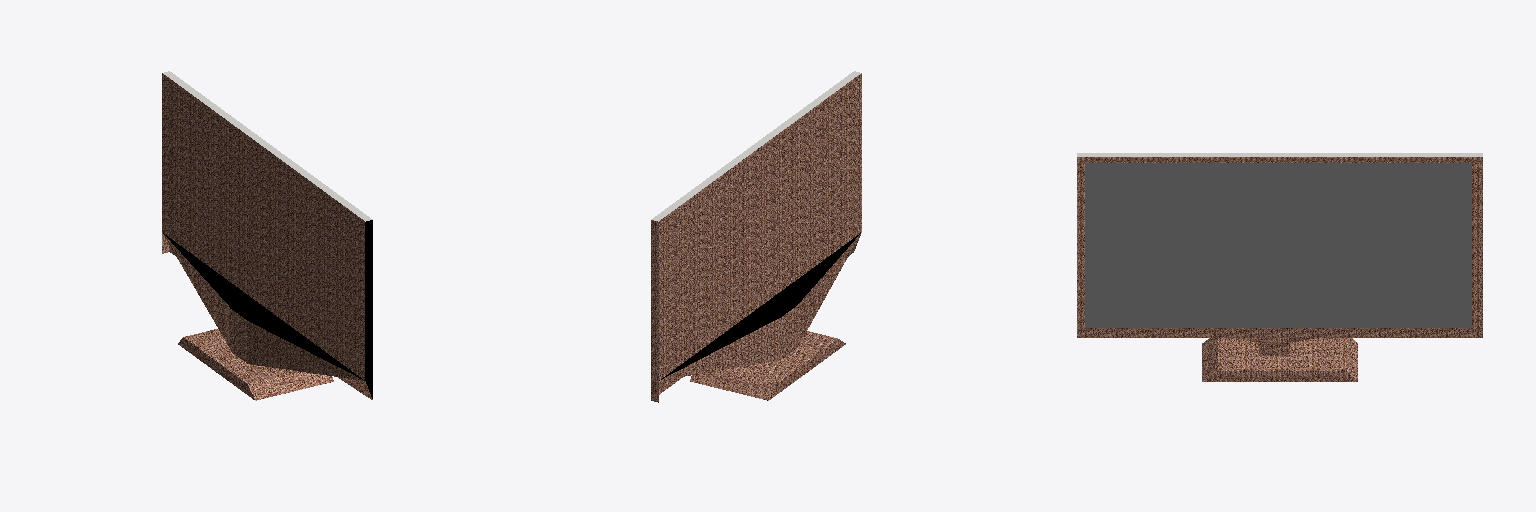
The picture shows the model from 3 angles: view 1: azimuth 30°, elevation 25°; view 2: azimuth 150°, elevation 25°; view 3: azimuth 270°, elevation 25°; orthographic projection.
Visible parts, largest first — view 1: mesh1-geometry-0, mesh1-geometry-1, mesh1-geometry-2; view 2: mesh1-geometry-0, mesh1-geometry-1, mesh1-geometry-2; view 3: mesh1-geometry-3, mesh1-geometry-0, mesh1-geometry-2.
Part boxes in pixels (x1,y1,x2,y2): mesh1-geometry-0: (162,73,372,400); mesh1-geometry-1: (163,220,372,398); mesh1-geometry-2: (162,71,372,395); mesh1-geometry-0: (651,73,861,402); mesh1-geometry-1: (659,233,860,400); mesh1-geometry-2: (651,71,860,381); mesh1-geometry-3: (1085,163,1471,327); mesh1-geometry-0: (1077,157,1482,381); mesh1-geometry-2: (1077,153,1482,380).
Size of the model in its own units: 0.191 by 0.4925 by 0.8491.
Materials: 4 (1 with a texture image).